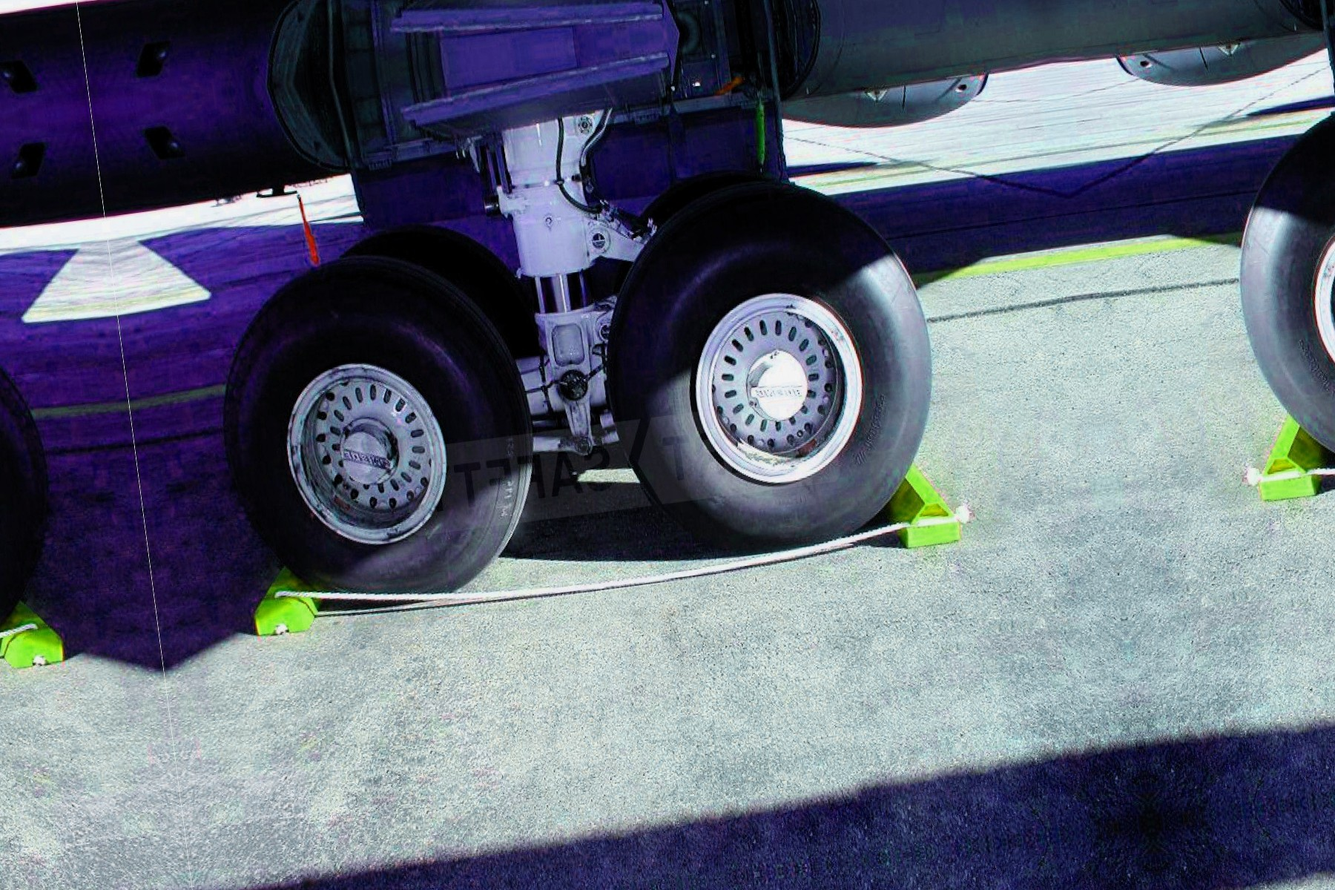chock: (869, 431, 961, 553), (1248, 382, 1335, 504), (239, 533, 331, 642), (0, 567, 71, 676)
wheel: (590, 154, 954, 562), (206, 232, 554, 613), (1216, 72, 1335, 480), (336, 209, 543, 381), (627, 160, 780, 230)
